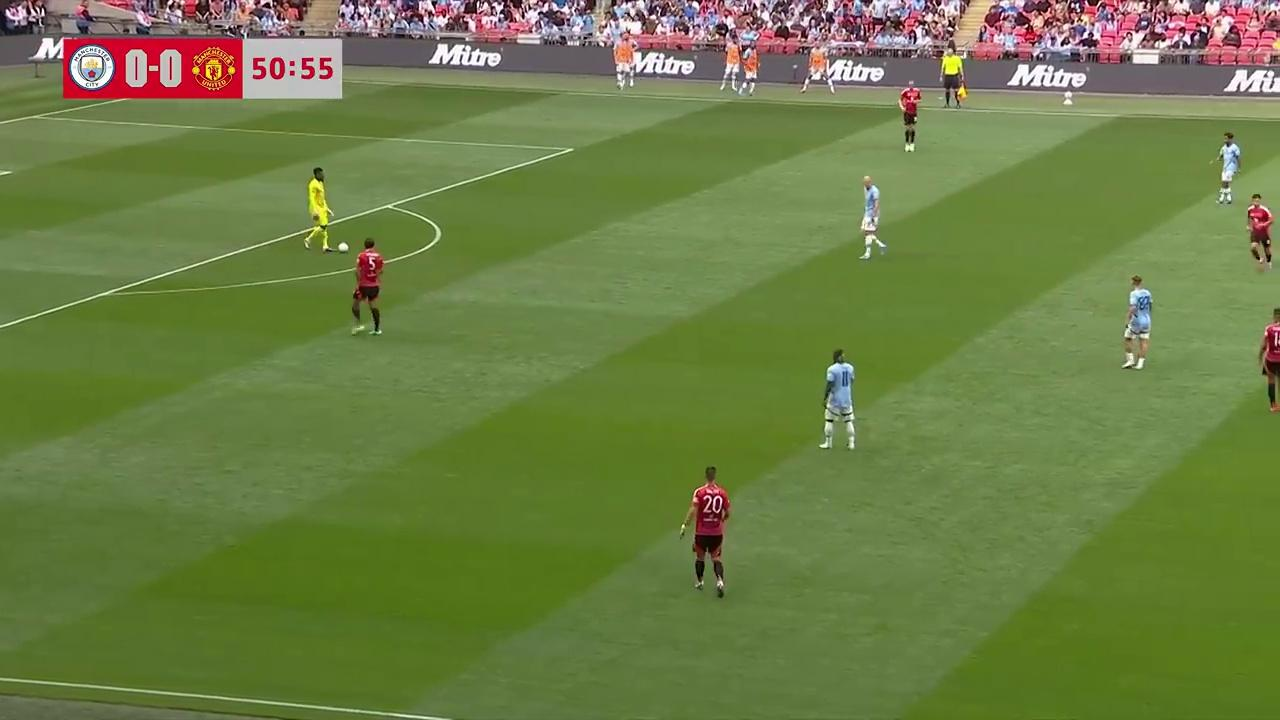ball: (337, 239, 350, 253)
player: (679, 464, 731, 598), (820, 348, 856, 451), (351, 238, 386, 335), (1123, 275, 1152, 369), (303, 167, 334, 252), (1256, 308, 1280, 413), (858, 175, 887, 260), (1245, 193, 1273, 271), (1212, 132, 1241, 205), (899, 81, 920, 152)
referee: (939, 48, 969, 109)
